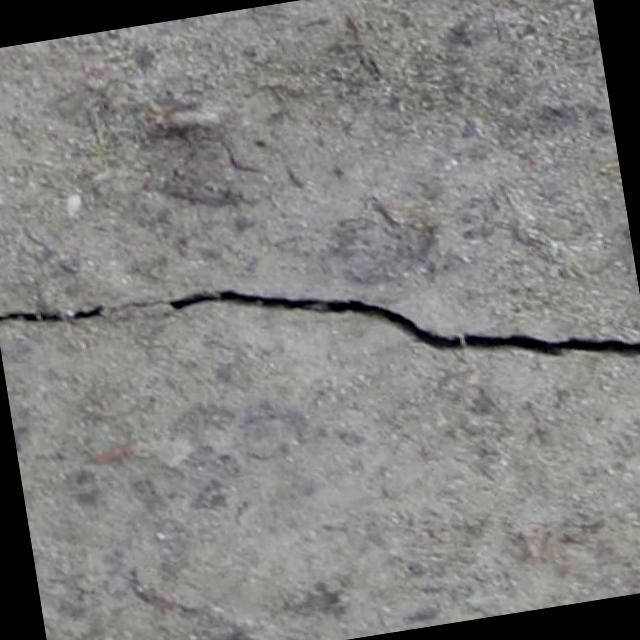crack: (0, 209, 640, 458)
